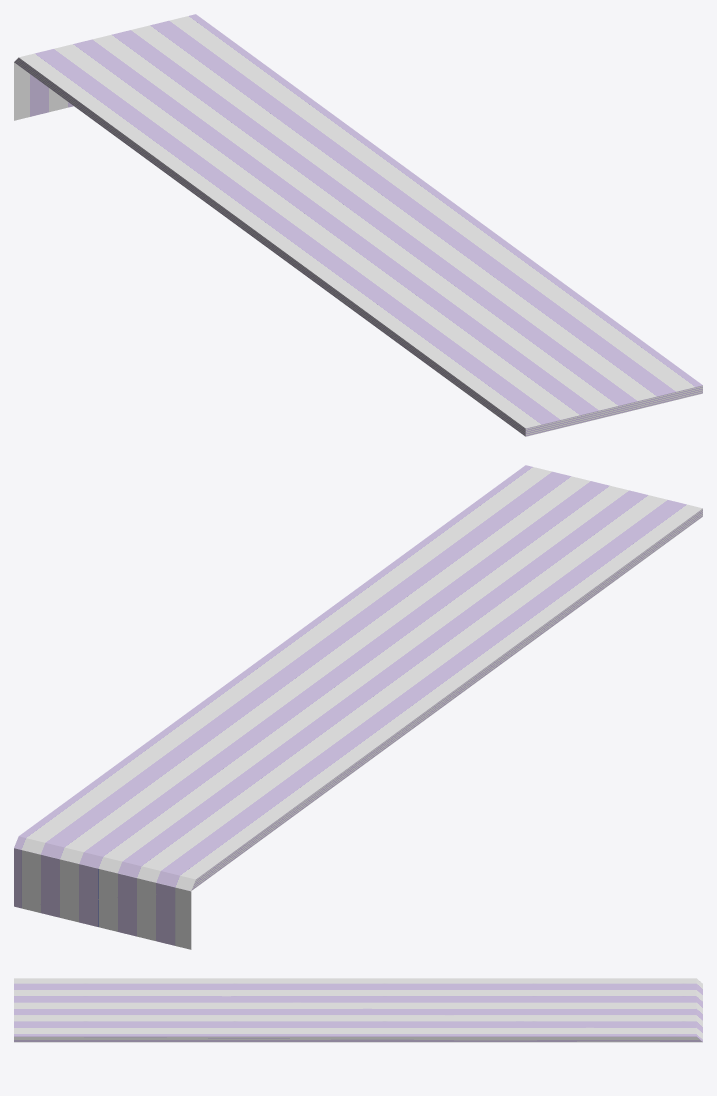
Rendered from Yol Sonu.fbx.
3 views of the same model, one above another, from view 1: azimuth 30°, elevation 25°; view 2: azimuth 150°, elevation 25°; view 3: azimuth 270°, elevation 25° (orthographic). The views are drawn at different scales.
Parts seen in each view (by area): view 1: end of the road; view 2: end of the road; view 3: end of the road.
Part boxes in pixels (x1=…): end of the road: x1=14, y1=14, x2=702, y2=436; end of the road: x1=14, y1=465, x2=702, y2=949; end of the road: x1=14, y1=978, x2=702, y2=1042.
Bounding box in the file's own units: 16.2 × 5.84 × 80.99.
